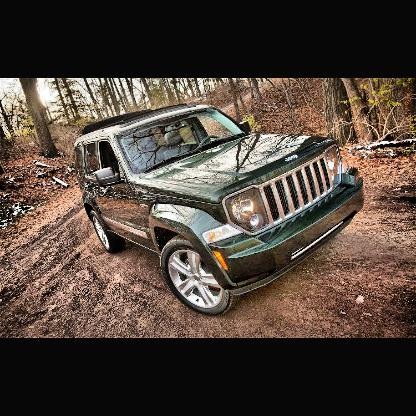Jeep Liberty SUV 2012: (72, 103, 366, 320)
